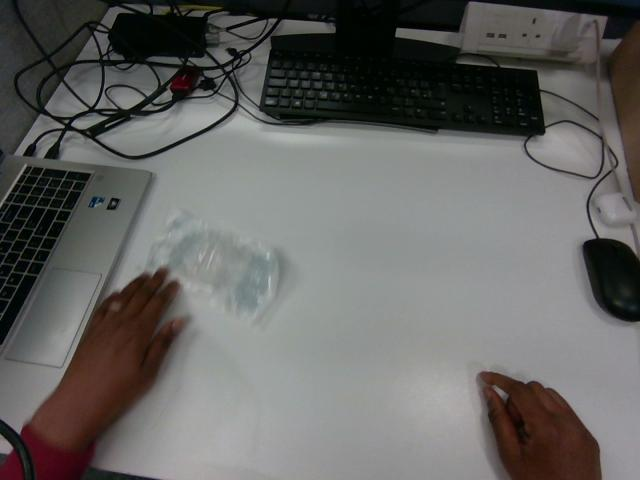gallipot: (147, 209, 278, 319)
